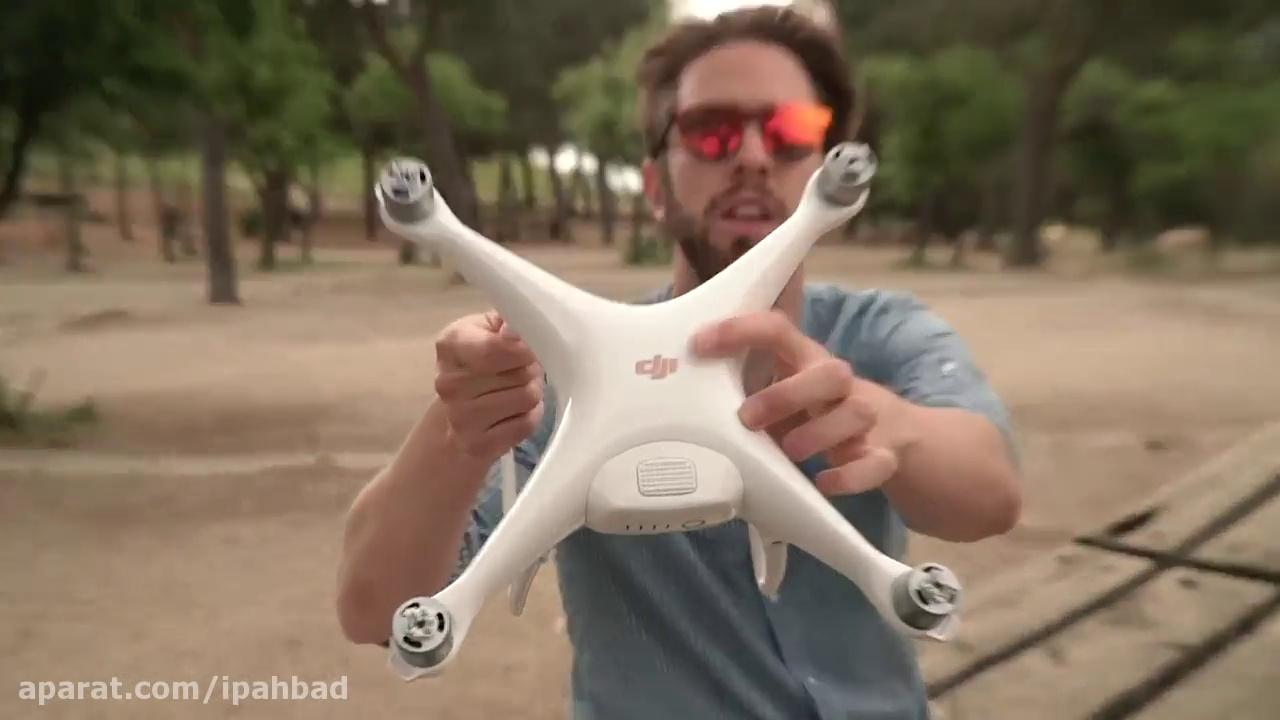drone: (373, 138, 966, 682)
